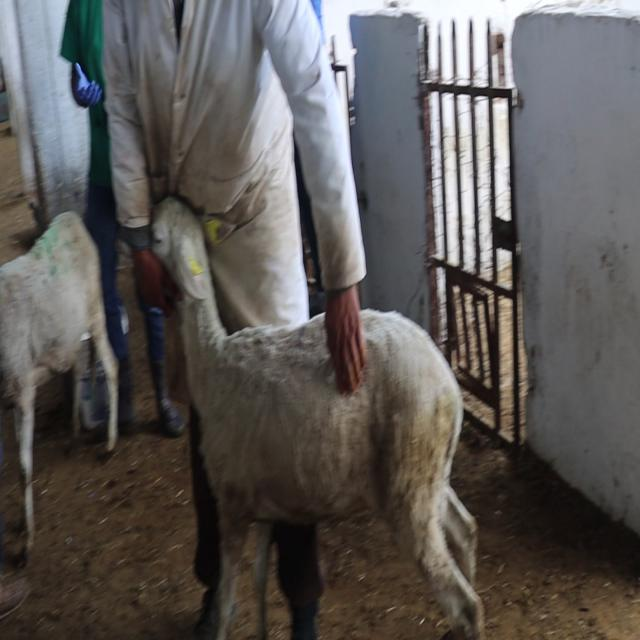Score_1: (152, 197, 484, 639)
